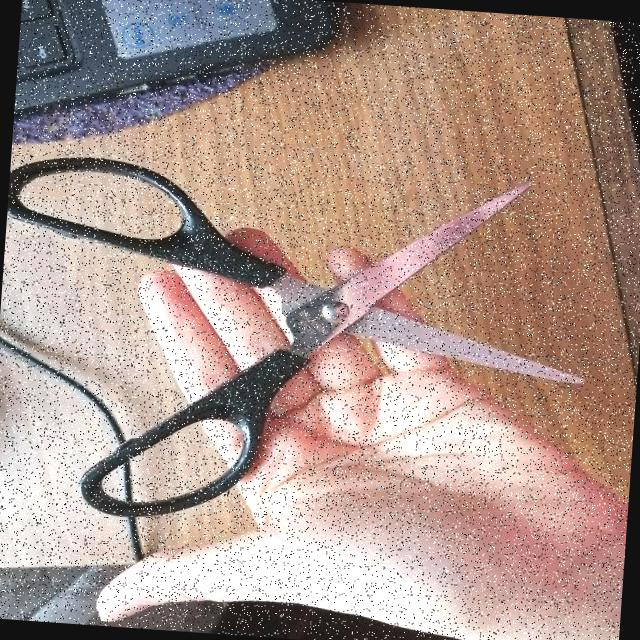scissors: (0, 144, 602, 550)
